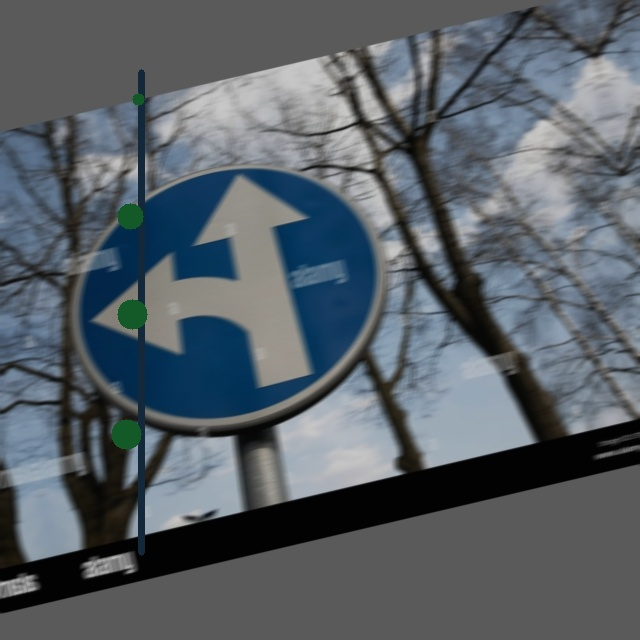Compulsory_Ahead_or_Turn_Left: (33, 130, 412, 459)
